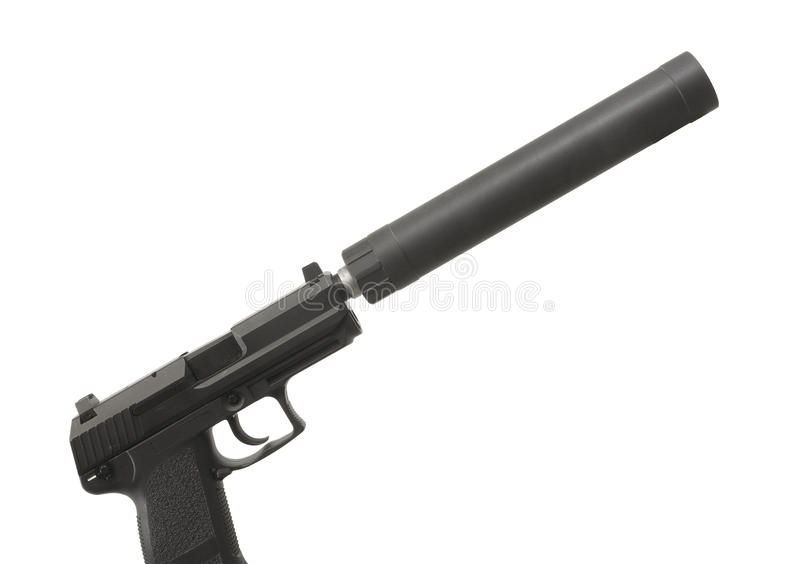Arma Real: (60, 49, 748, 562)
